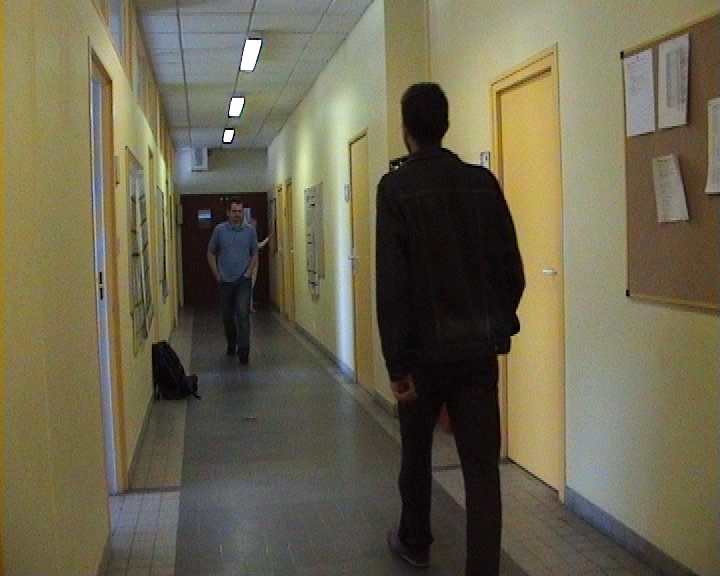leave bag unattended: (141, 322, 212, 423)
